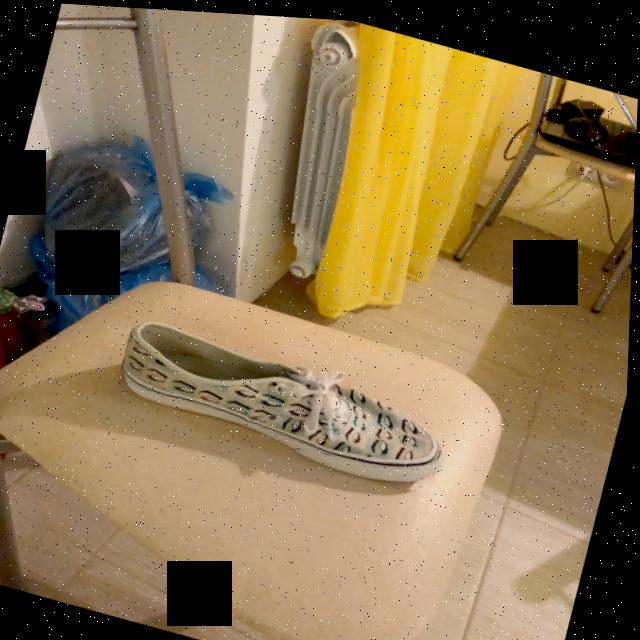shoe: (126, 322, 442, 475)
